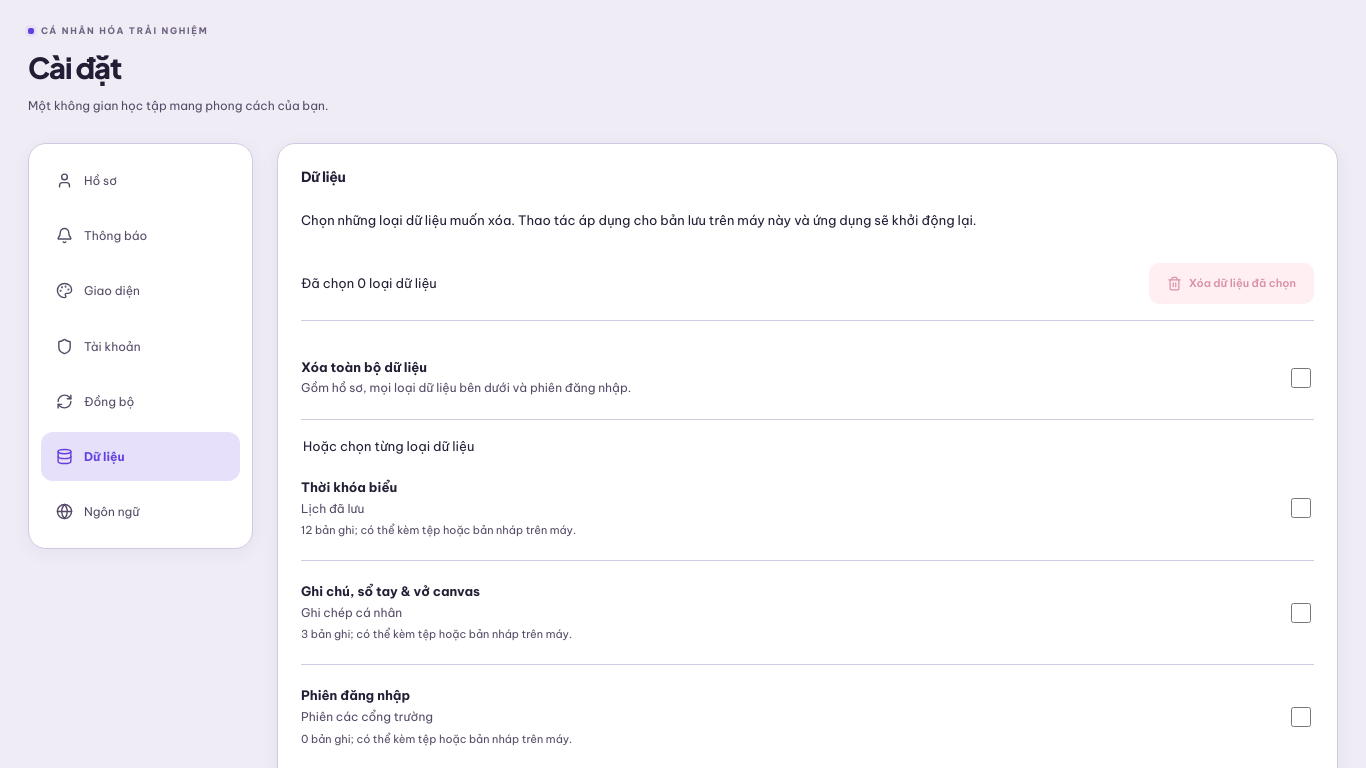
Test: Data management › supports full reset and keeps a failed reset available to retry
This screenshot has width=1366, height=768.
Check: the checkbox labelled "Thời khóa biểu" is shown, box [1291,498,1311,518]
Click the checkbox labelled "Xóa toàn bộ dữ liệu". click: (1301, 378)
box: [1291,368,1311,388]
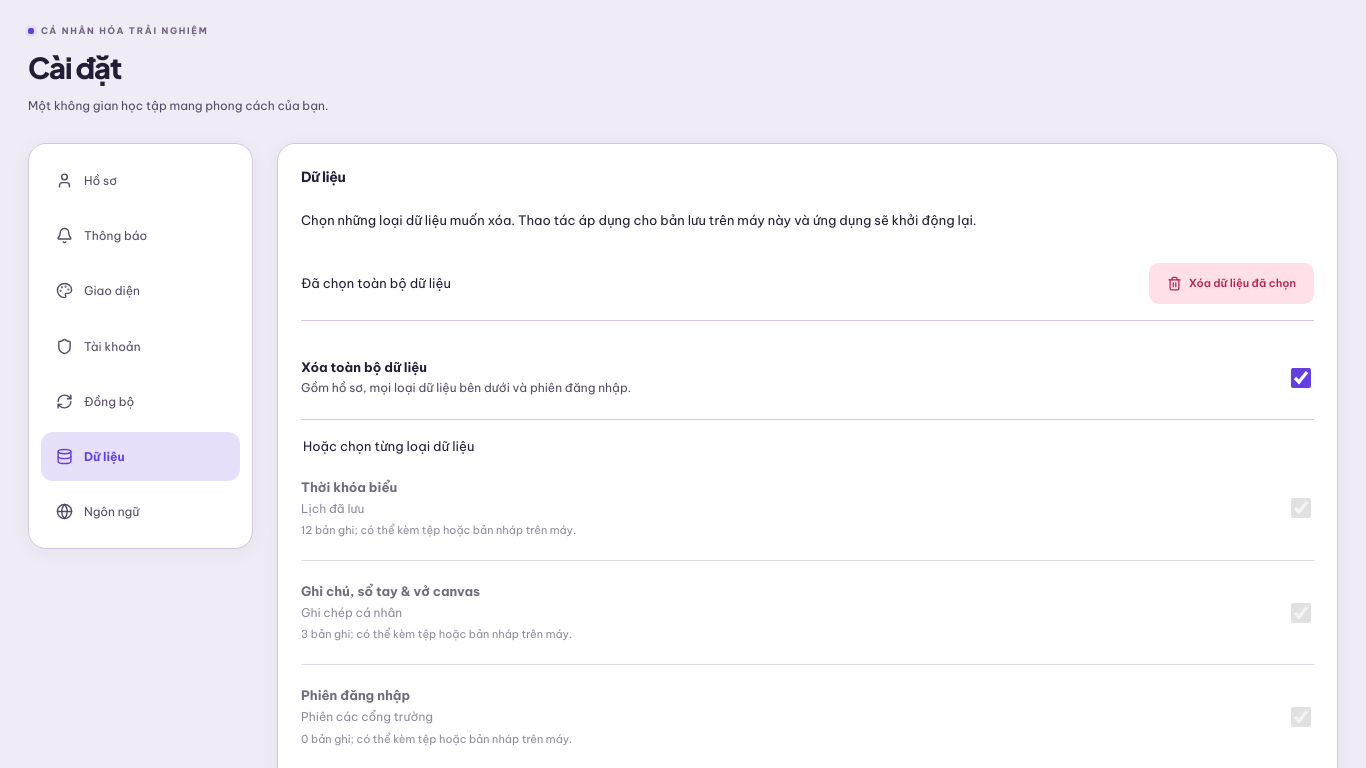
Check: the checkbox labelled "Thời khóa biểu" is disabled, box [1291,498,1311,518]
Click the button "Xóa dữ liệu đã chọn". click: (1231, 283)
box: [1149,263,1314,304]
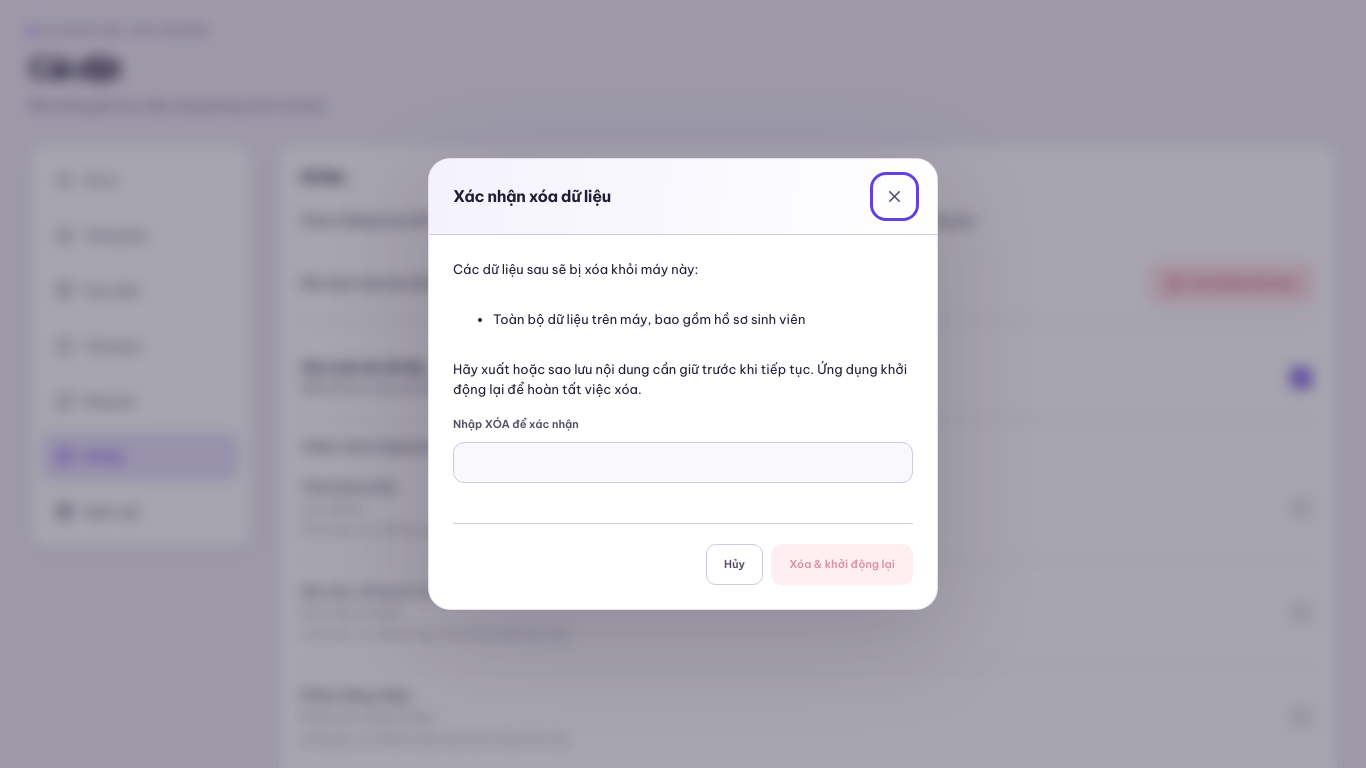
Type "XÓA" into the field labelled "Nhập XÓA để xác nhận". click: (683, 463)
box: [453,442,913,483]
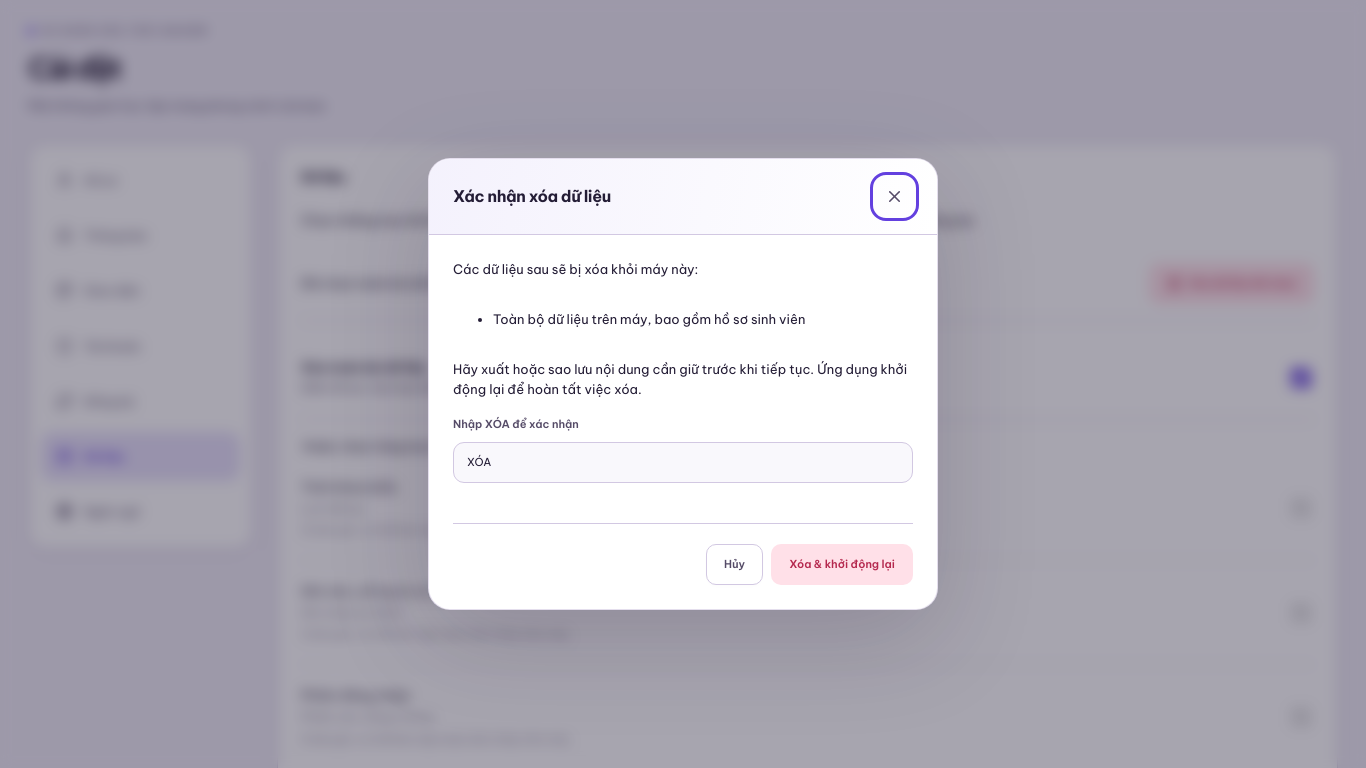
Click the button "Xóa & khởi động lại". click: (842, 565)
box: [771,544,913,585]
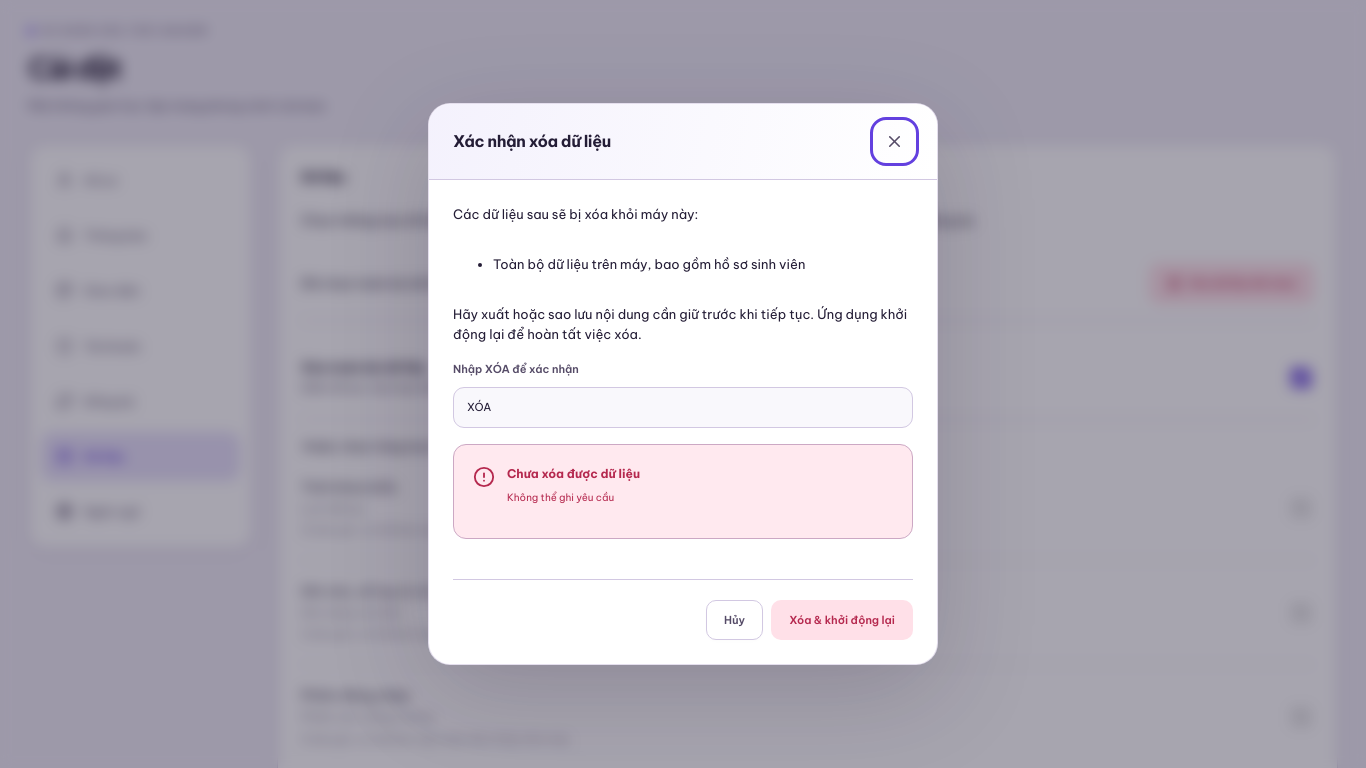
Check: the button "Xóa & khởi động lại" is enabled, box [771,600,913,640]
Check: the text "Không thể ghi yêu cầu" is shown, box [507,490,614,504]
